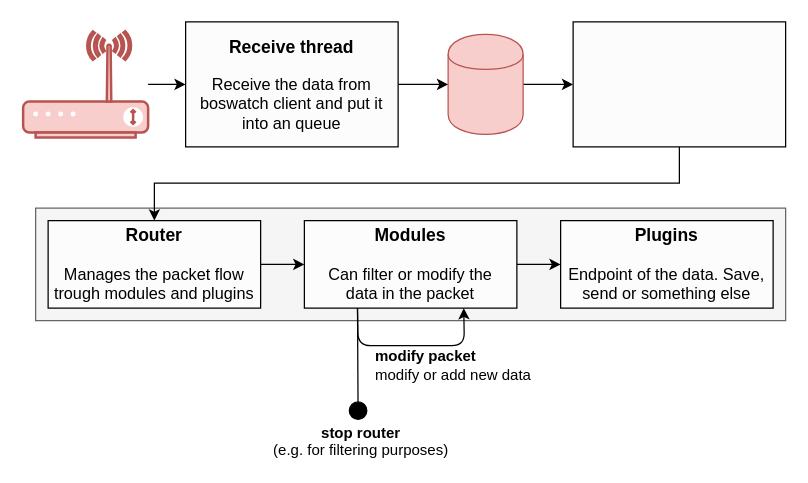
This 808x483 diagram has some shape labels left out. The shapes that lost their labels are listed below. From the top down, each one's centre as x and y in pixels, then its label:
pixel 485 83: Queue
pixel 679 84: Main thread Distribute the packets through the routing mechanism
